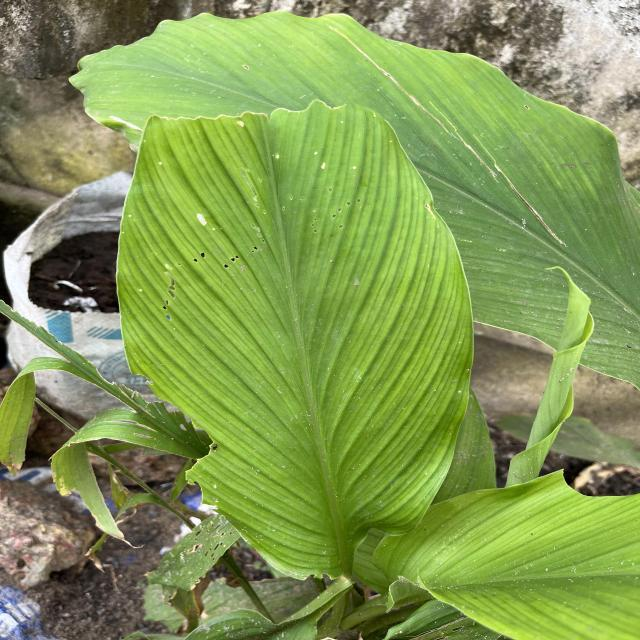Curcuma longa: (56, 1, 640, 394), (110, 96, 479, 586)
